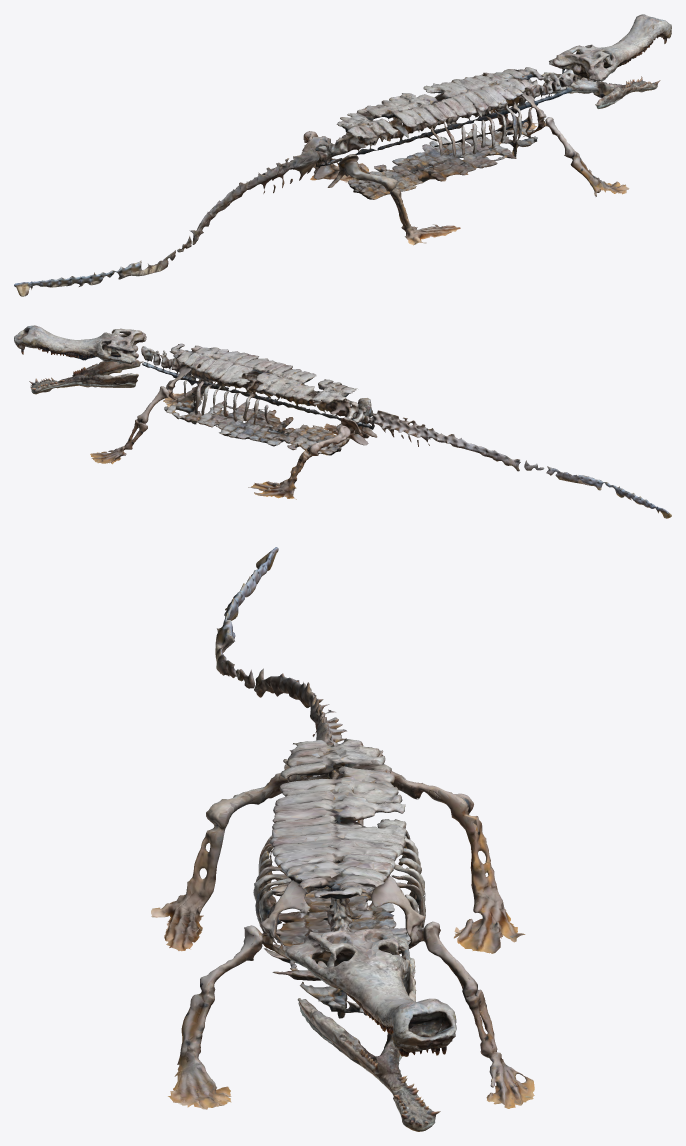
Rendered from sarcosuchus_imperator.glb.
The picture shows the model from 3 angles, top to bottom: view 1: azimuth 30°, elevation 25°; view 2: azimuth 150°, elevation 25°; view 3: azimuth 270°, elevation 25°; orthographic projection. The views are drawn at different scales.
Parts seen in each view (by area): view 1: croco_0; view 2: croco_0; view 3: croco_0.
Boxes of the visible parts, x1,y1,x2,y2 form: croco_0: (14,14,671,296); croco_0: (14,325,671,518); croco_0: (151,547,534,1131).
Size of the model in its own units: 51.59 by 7.38 by 13.91.
1 material, 1 textured.
